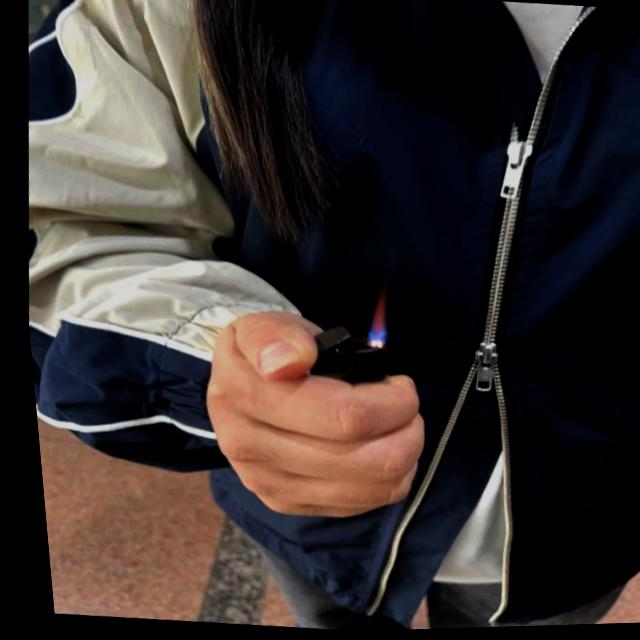Fire: (356, 290, 385, 342)
